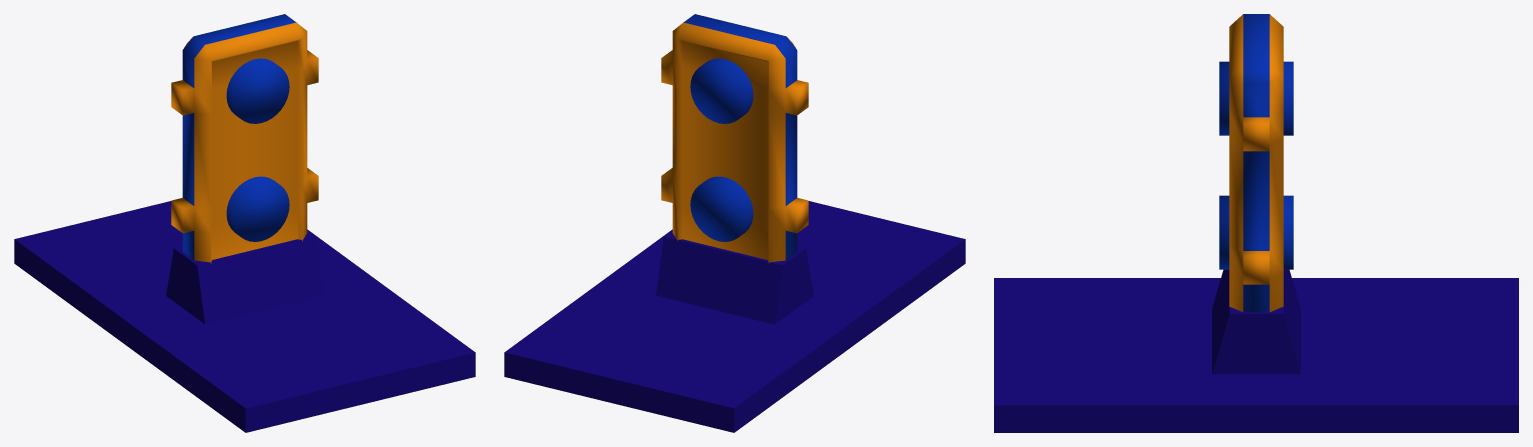
File: conduit.glb
3 renders of one model, left to right at view 1: azimuth 30°, elevation 25°; view 2: azimuth 150°, elevation 25°; view 3: azimuth 270°, elevation 25°, orthographic. The views are drawn at different scales.
Visible parts, largest first — view 1: Cube.001, Cube, Cylinder, Cylinder.001; view 2: Cube.001, Cube, Cylinder, Cylinder.001; view 3: Cube.001, Cube, Cylinder, Cylinder.001.
Boxes of the visible parts, x1,y1,x2,y2 form: Cube.001: (14,201,475,432); Cube: (171,14,318,263); Cylinder: (226,176,289,241); Cylinder.001: (226,58,289,123); Cube.001: (504,201,965,432); Cube: (661,14,808,263); Cylinder: (690,176,753,241); Cylinder.001: (690,58,753,123); Cube.001: (994,269,1518,432); Cube: (1229,14,1283,312); Cylinder: (1219,195,1293,269); Cylinder.001: (1219,61,1293,135).
Size of what is drawn, in the model's own units: 16.25 by 19.66 by 28.33.
